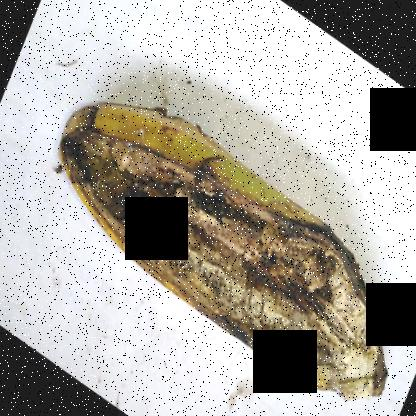rotten: (59, 110, 384, 414)
